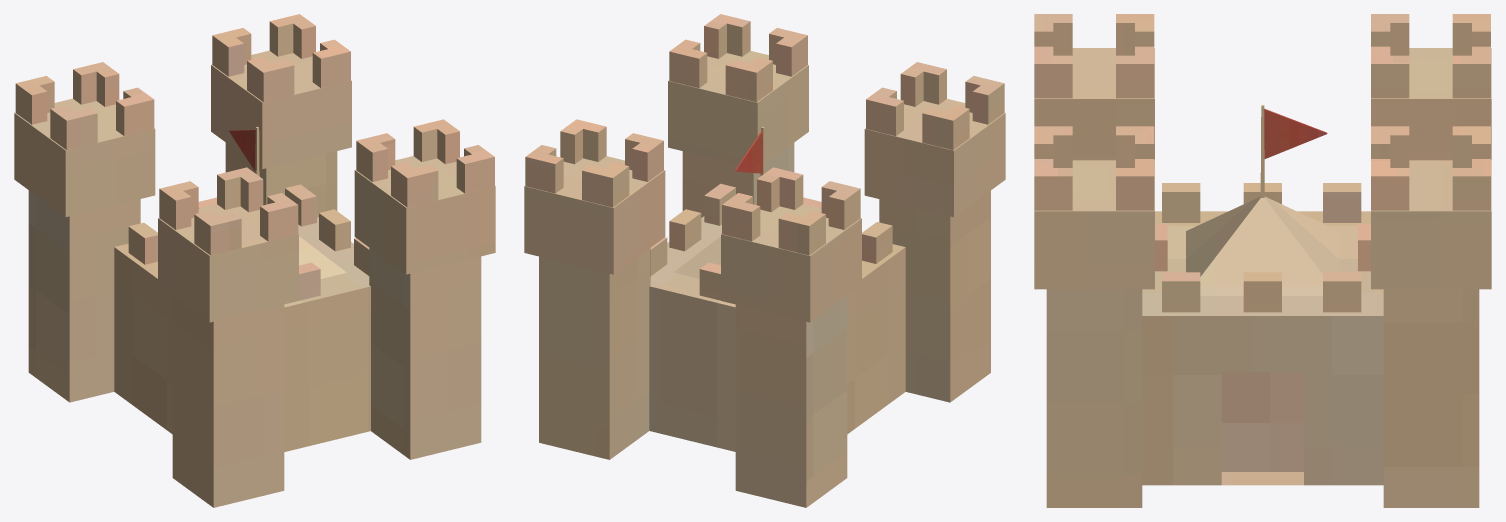
File: CHAHIN_SAND_CASTLE.obj
3 renders of one model, left to right at view 1: azimuth 30°, elevation 25°; view 2: azimuth 150°, elevation 25°; view 3: azimuth 270°, elevation 25°, orthographic. The views are drawn at different scales.
Visible parts, largest first — view 1: Cube.014_Cube.019; view 2: Cube.014_Cube.019; view 3: Cube.014_Cube.019.
Boxes of the visible parts, bbox=[...] form: Cube.014_Cube.019: bbox=[14, 14, 495, 507]; Cube.014_Cube.019: bbox=[524, 14, 1005, 507]; Cube.014_Cube.019: bbox=[1034, 14, 1491, 507].
Bounding box in the file's own units: 1.65 × 1.59 × 1.96.
1 material, 1 textured.
